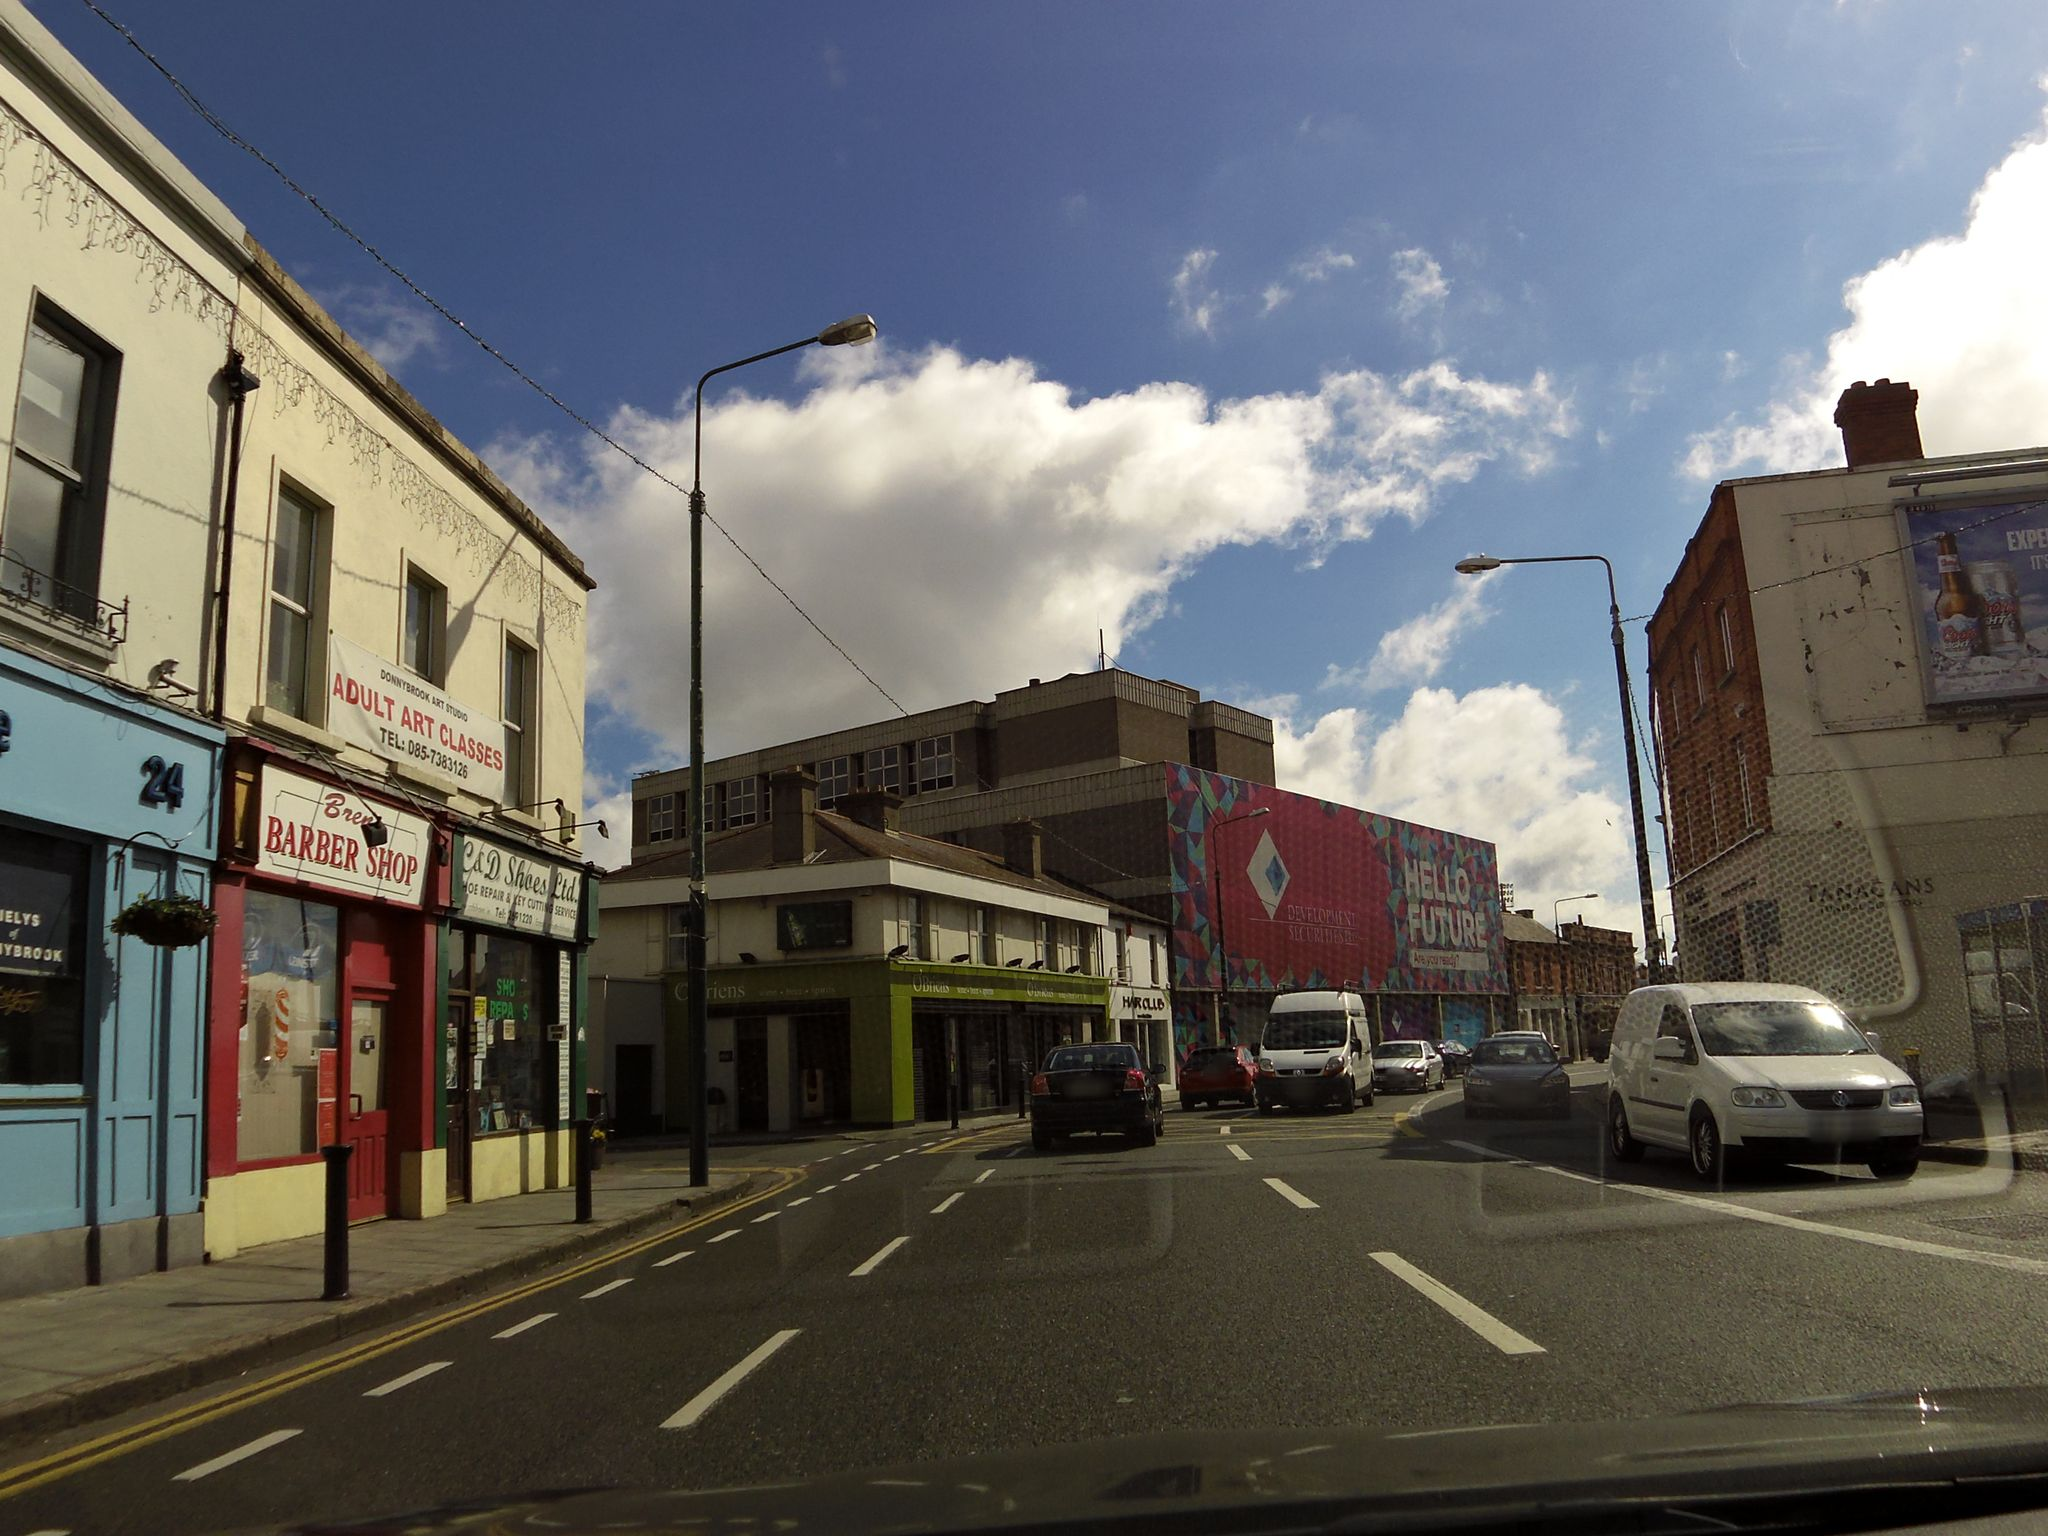vinyl banner: (318, 608, 527, 808)
